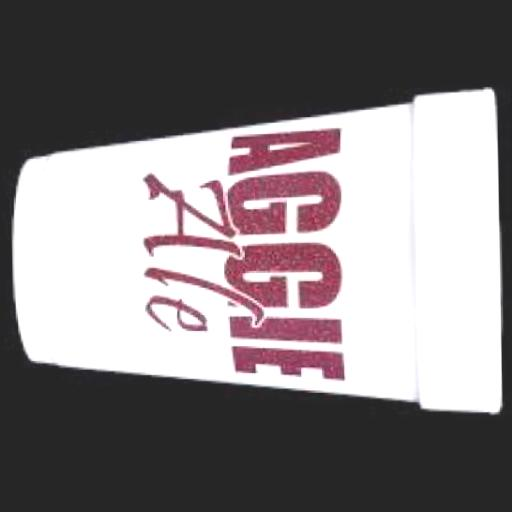paper: (13, 88, 504, 416)
